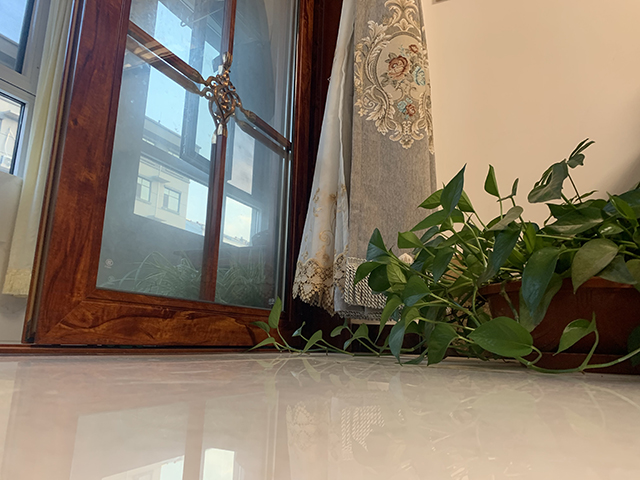curtain: (287, 1, 439, 320)
